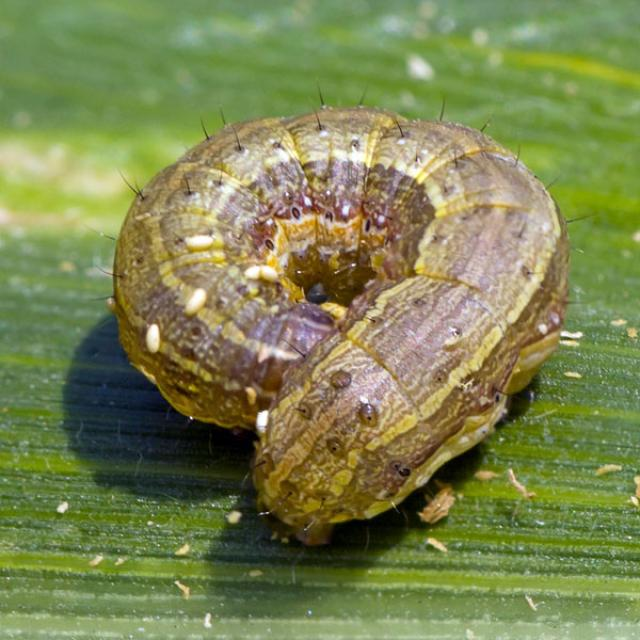Fall-armyworm: (111, 106, 572, 539)
